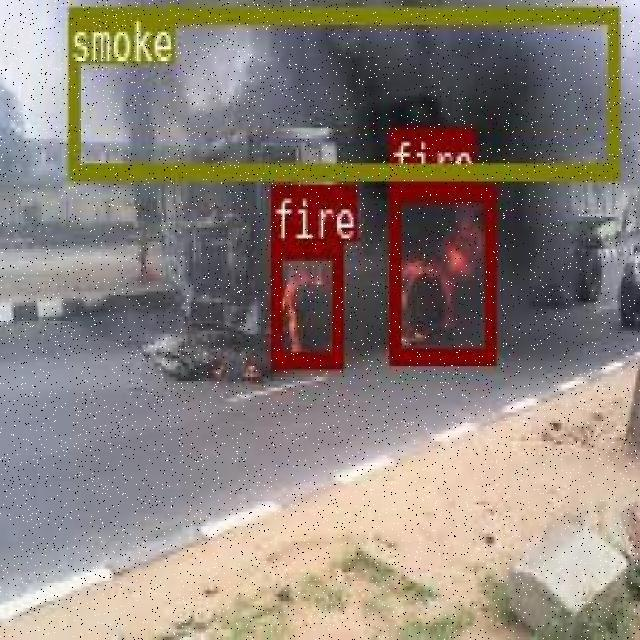Smoke: (67, 38, 618, 143)
